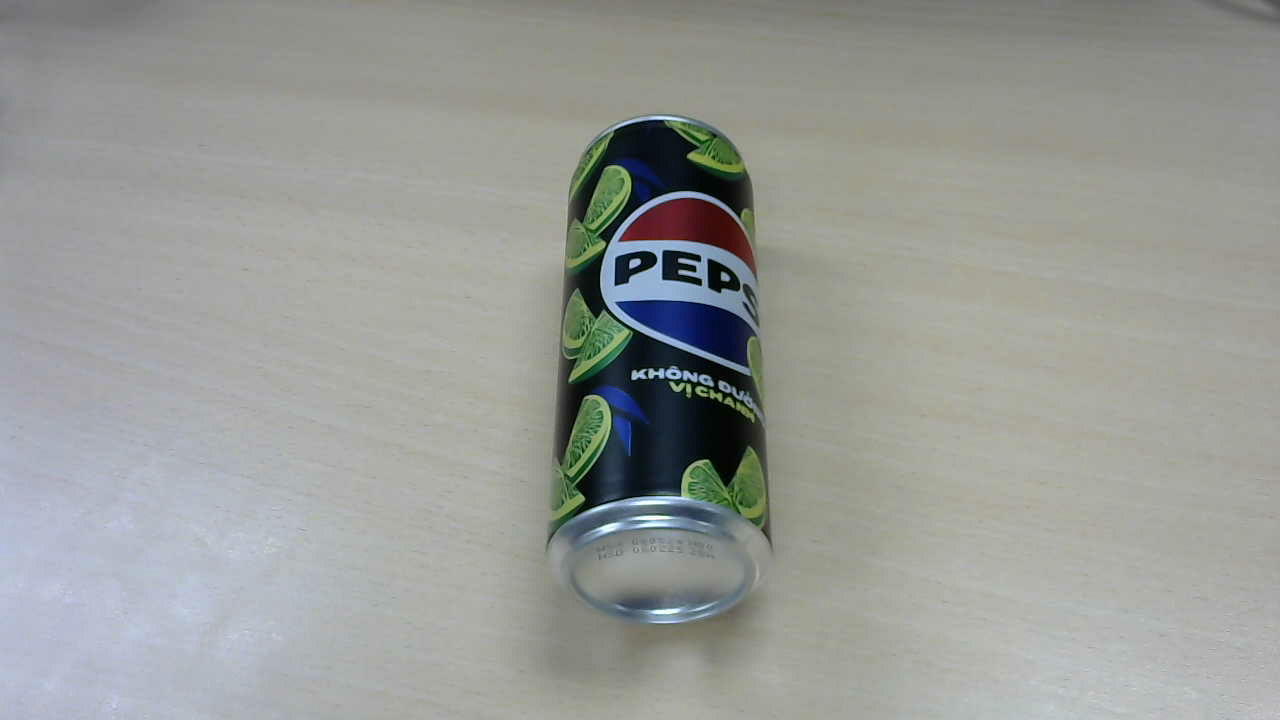Pepsi: (551, 117, 786, 626)
